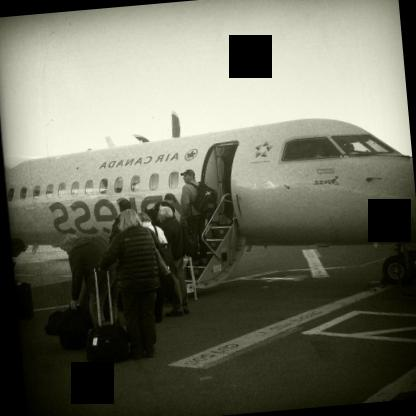backpack: (191, 181, 218, 213), (182, 222, 202, 258)
handbag: (87, 269, 132, 366), (147, 228, 175, 299)
suitcase: (59, 306, 93, 349), (16, 282, 35, 322)
